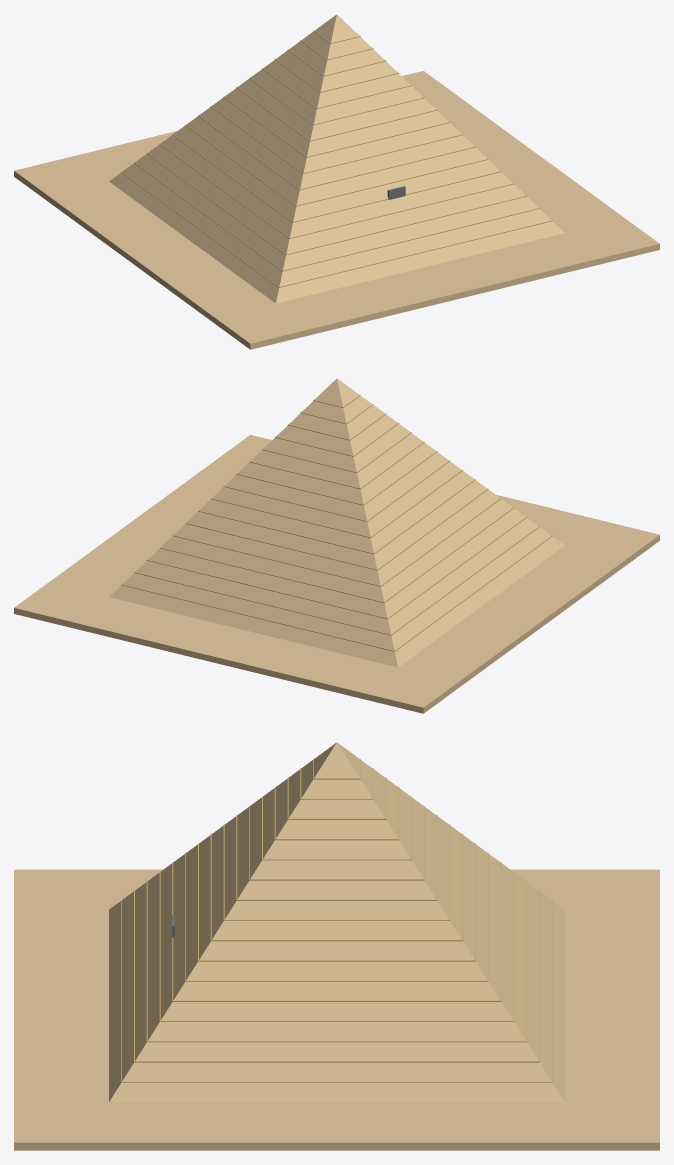
File: monument.glb
The picture shows the model from 3 angles, top to bottom: view 1: azimuth 30°, elevation 25°; view 2: azimuth 150°, elevation 25°; view 3: azimuth 270°, elevation 25°; orthographic projection. The views are drawn at different scales.
Size of the model in its own units: 8.5 by 3.95 by 8.5.
